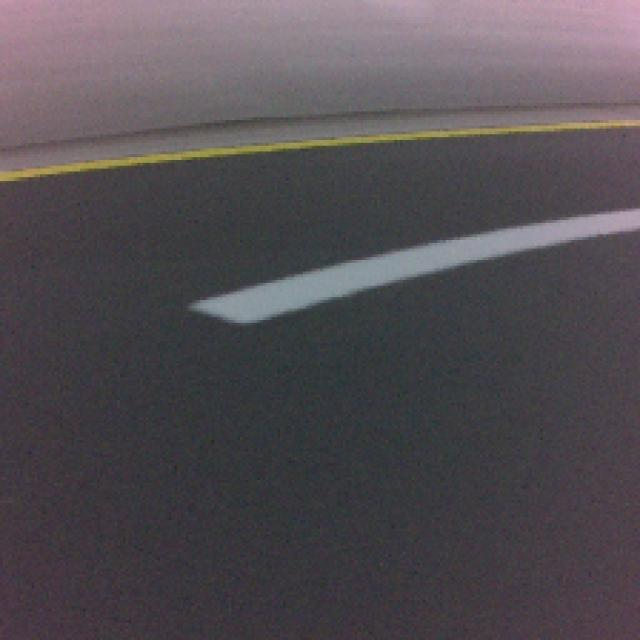Guard rail: (193, 207, 640, 329)
